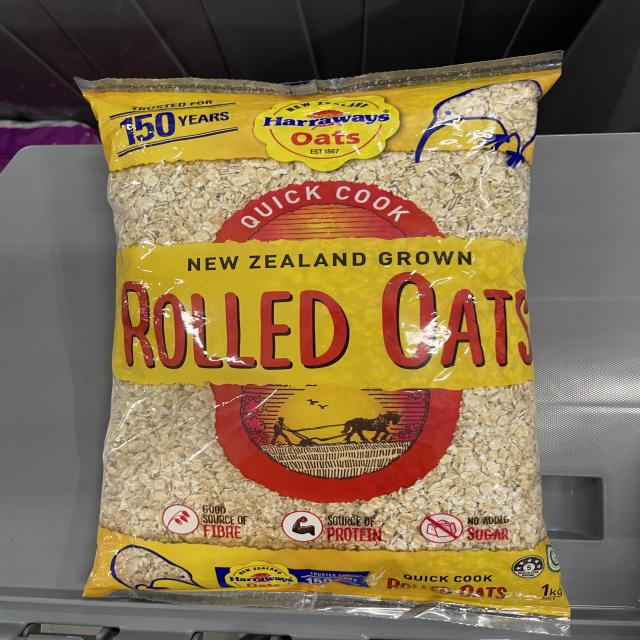object_name: (95, 78, 548, 608)
